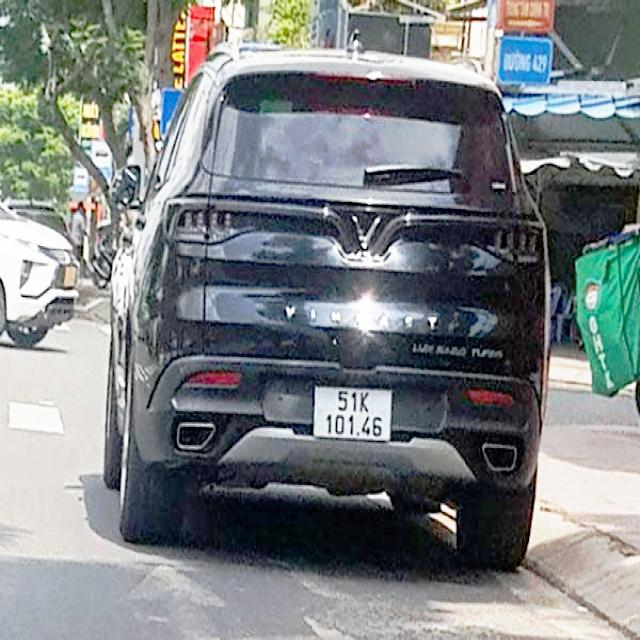license_plate: (315, 386, 392, 441)
